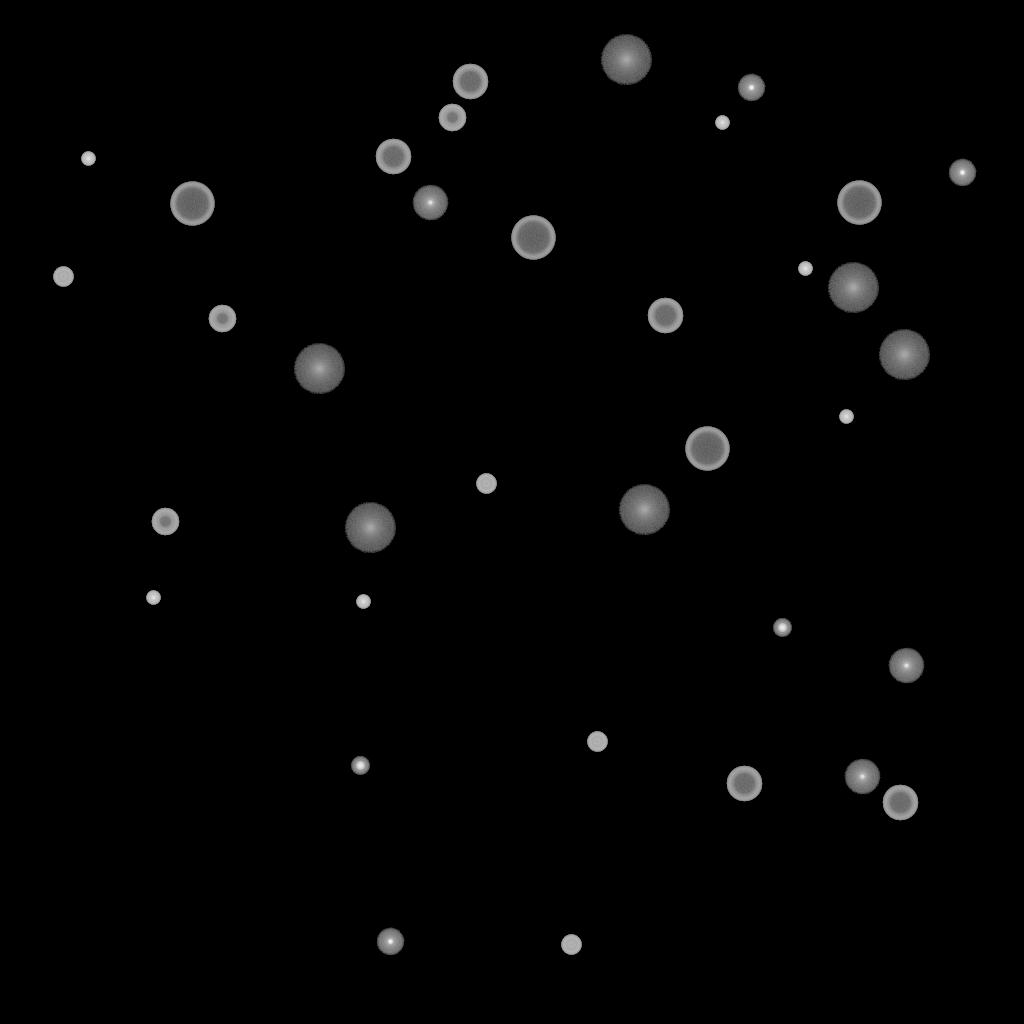depth:-10: (376, 928, 404, 956), (948, 159, 976, 187), (737, 74, 765, 102)
depth:-20: (351, 757, 369, 775), (773, 619, 791, 637)
depth:-30: (798, 262, 812, 276), (81, 152, 95, 166), (715, 116, 729, 130), (146, 591, 160, 605), (839, 410, 853, 424), (356, 595, 370, 609)
depth:-40: (561, 935, 581, 955), (587, 732, 607, 752), (53, 267, 73, 287), (476, 474, 496, 494)
depth:-50: (208, 305, 236, 333), (438, 104, 466, 132), (151, 508, 179, 536)
depth:-60: (452, 64, 488, 100), (375, 139, 411, 175), (726, 766, 762, 802), (647, 298, 683, 334), (882, 785, 918, 821)
depth:-70: (837, 181, 881, 225), (170, 182, 214, 226), (685, 427, 729, 471), (511, 216, 555, 260)
depth:0: (412, 185, 448, 221), (844, 759, 880, 795), (888, 648, 924, 684)
depth:20: (827, 263, 879, 313), (618, 485, 670, 535), (878, 330, 930, 380), (293, 344, 345, 394), (344, 503, 396, 553), (600, 35, 652, 85)
